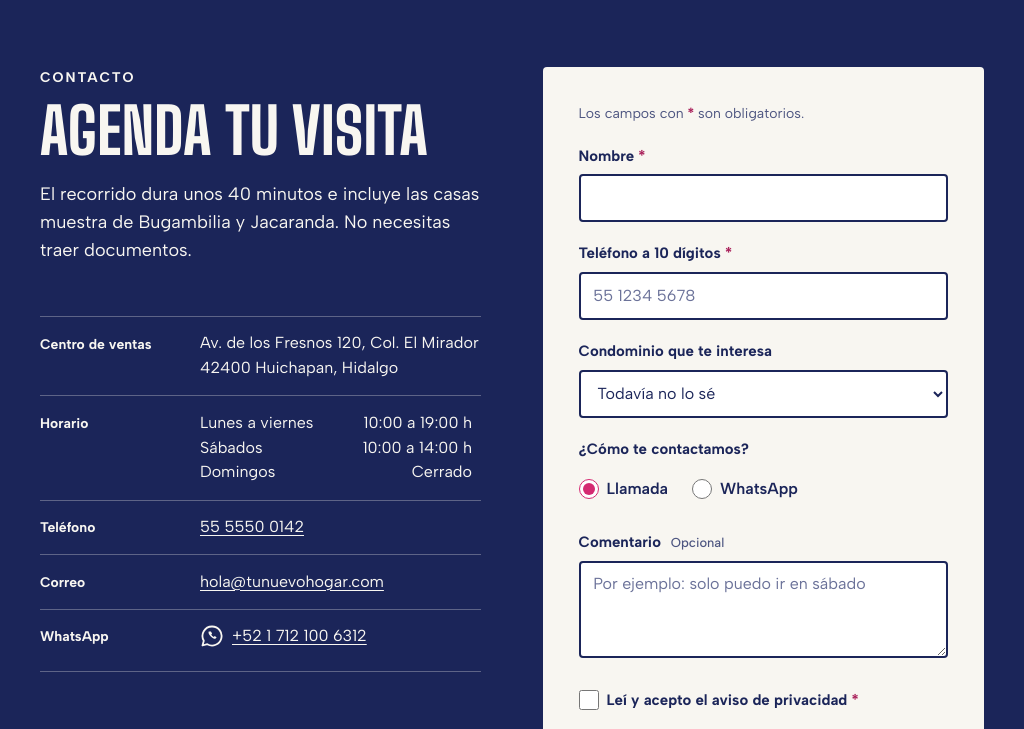
Test case: Contact: privacy notice › warns as soon as the checkbox is unticked
Click the checkbox labelled "Leí y acepto el aviso de privacidad *": (588, 700) [578,690,598,710]
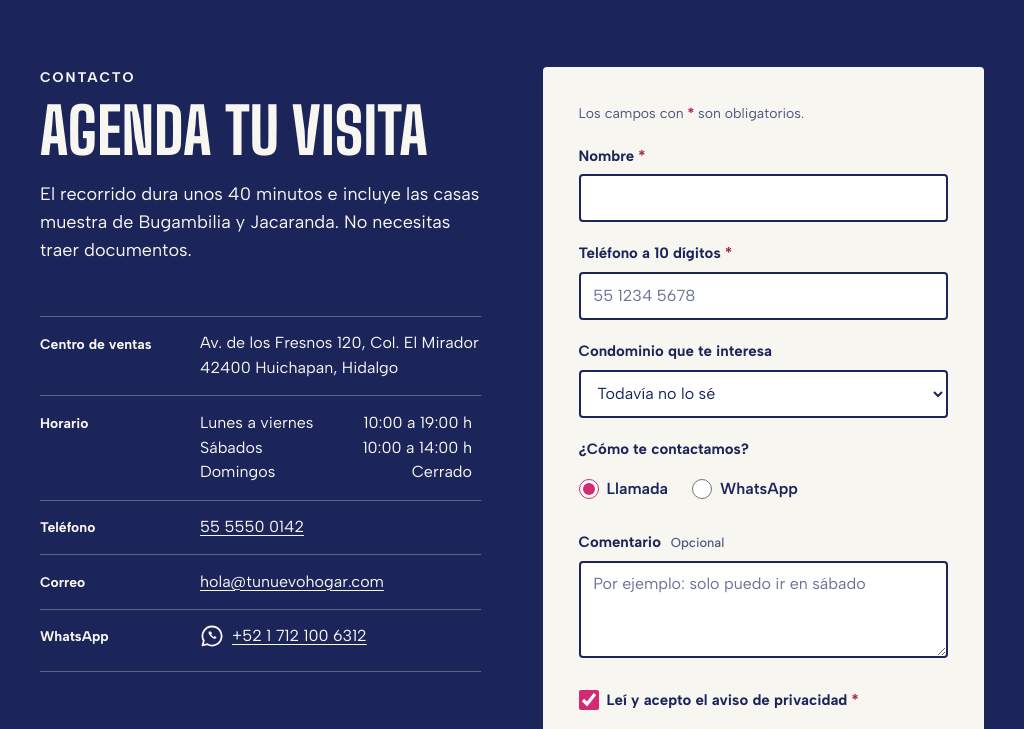
Click the checkbox labelled "Leí y acepto el aviso de privacidad *": (588, 700) [578,690,598,710]
(page scrolled)
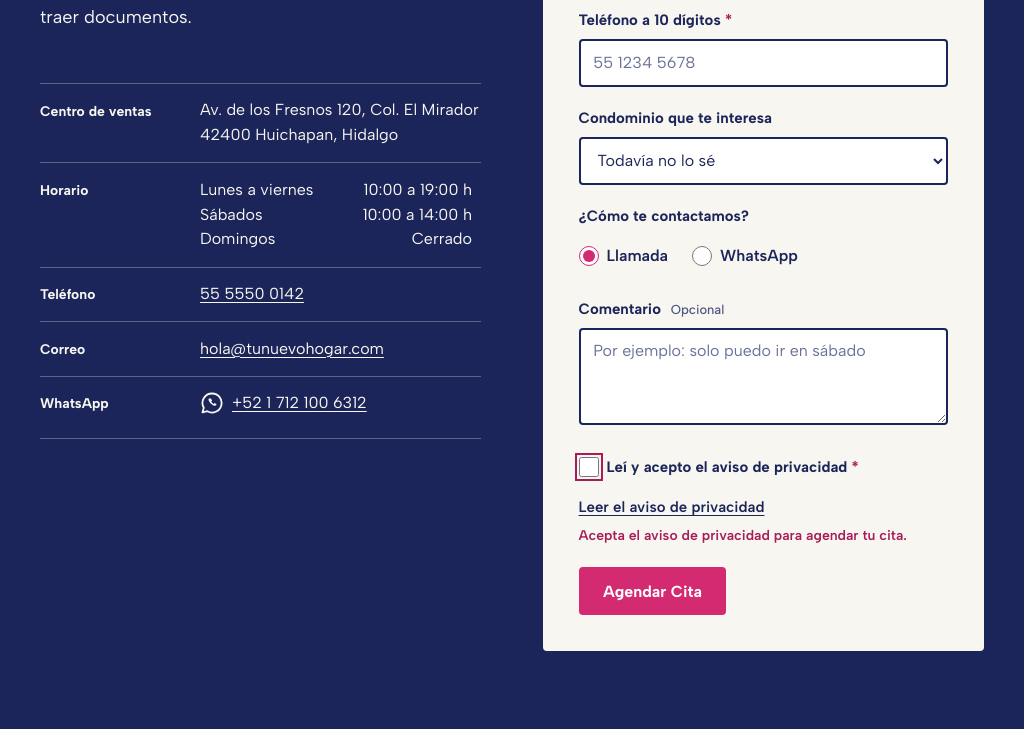
Result: the checkbox labelled "Leí y acepto el aviso de privacidad *" is not checked at [578,458,598,478]
Result: the text "Acepta el aviso de privacidad para agendar tu cita." is shown at [578,526,907,547]
